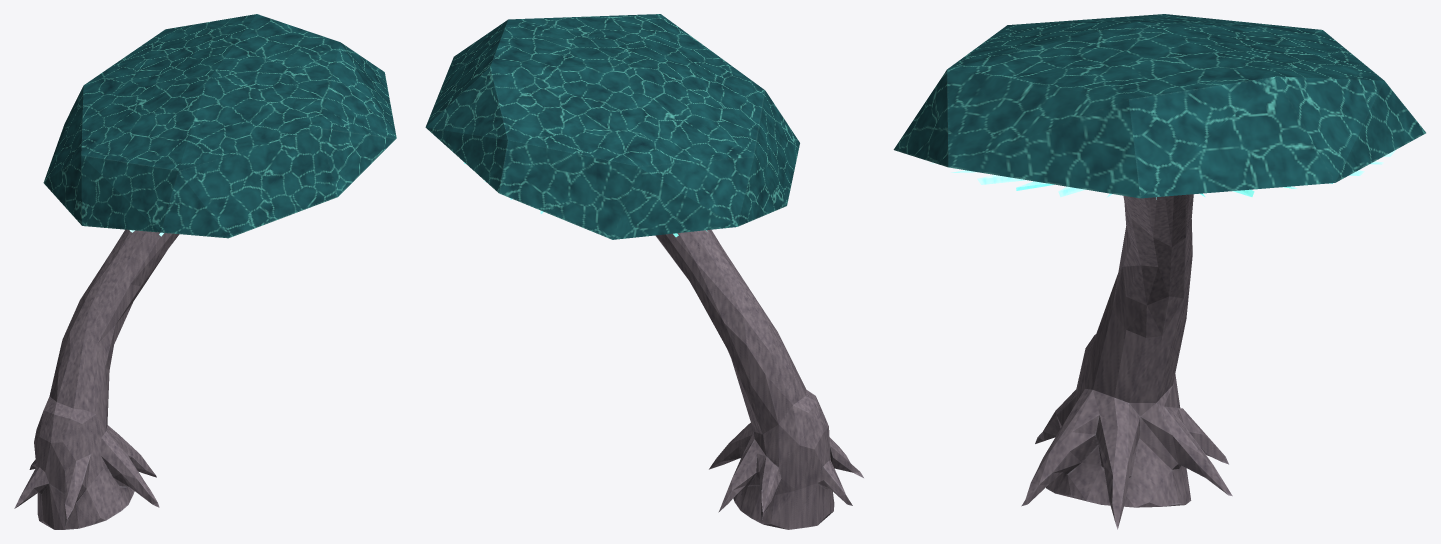
The model's file is underworld-flora-fungal-glowcap-bent.glb.
3 views of the same model, side by side, from view 1: azimuth 30°, elevation 25°; view 2: azimuth 150°, elevation 25°; view 3: azimuth 270°, elevation 25° (orthographic). The views are drawn at different scales.
Parts seen in each view (by area): view 1: caps, fused-stalk; view 2: caps, fused-stalk; view 3: caps, fused-stalk, gills.
Boxes of the visible parts, x1,y1,x2,y2 form: caps: (43,14,396,238); fused-stalk: (14,229,179,529); caps: (425,14,799,239); fused-stalk: (655,229,863,529); caps: (893,14,1425,198); fused-stalk: (1021,194,1232,529); gills: (930,150,1395,199).
Bounding box in the file's own units: 6.53 × 6.78 × 5.5.
Materials: 3 (3 with a texture image).
